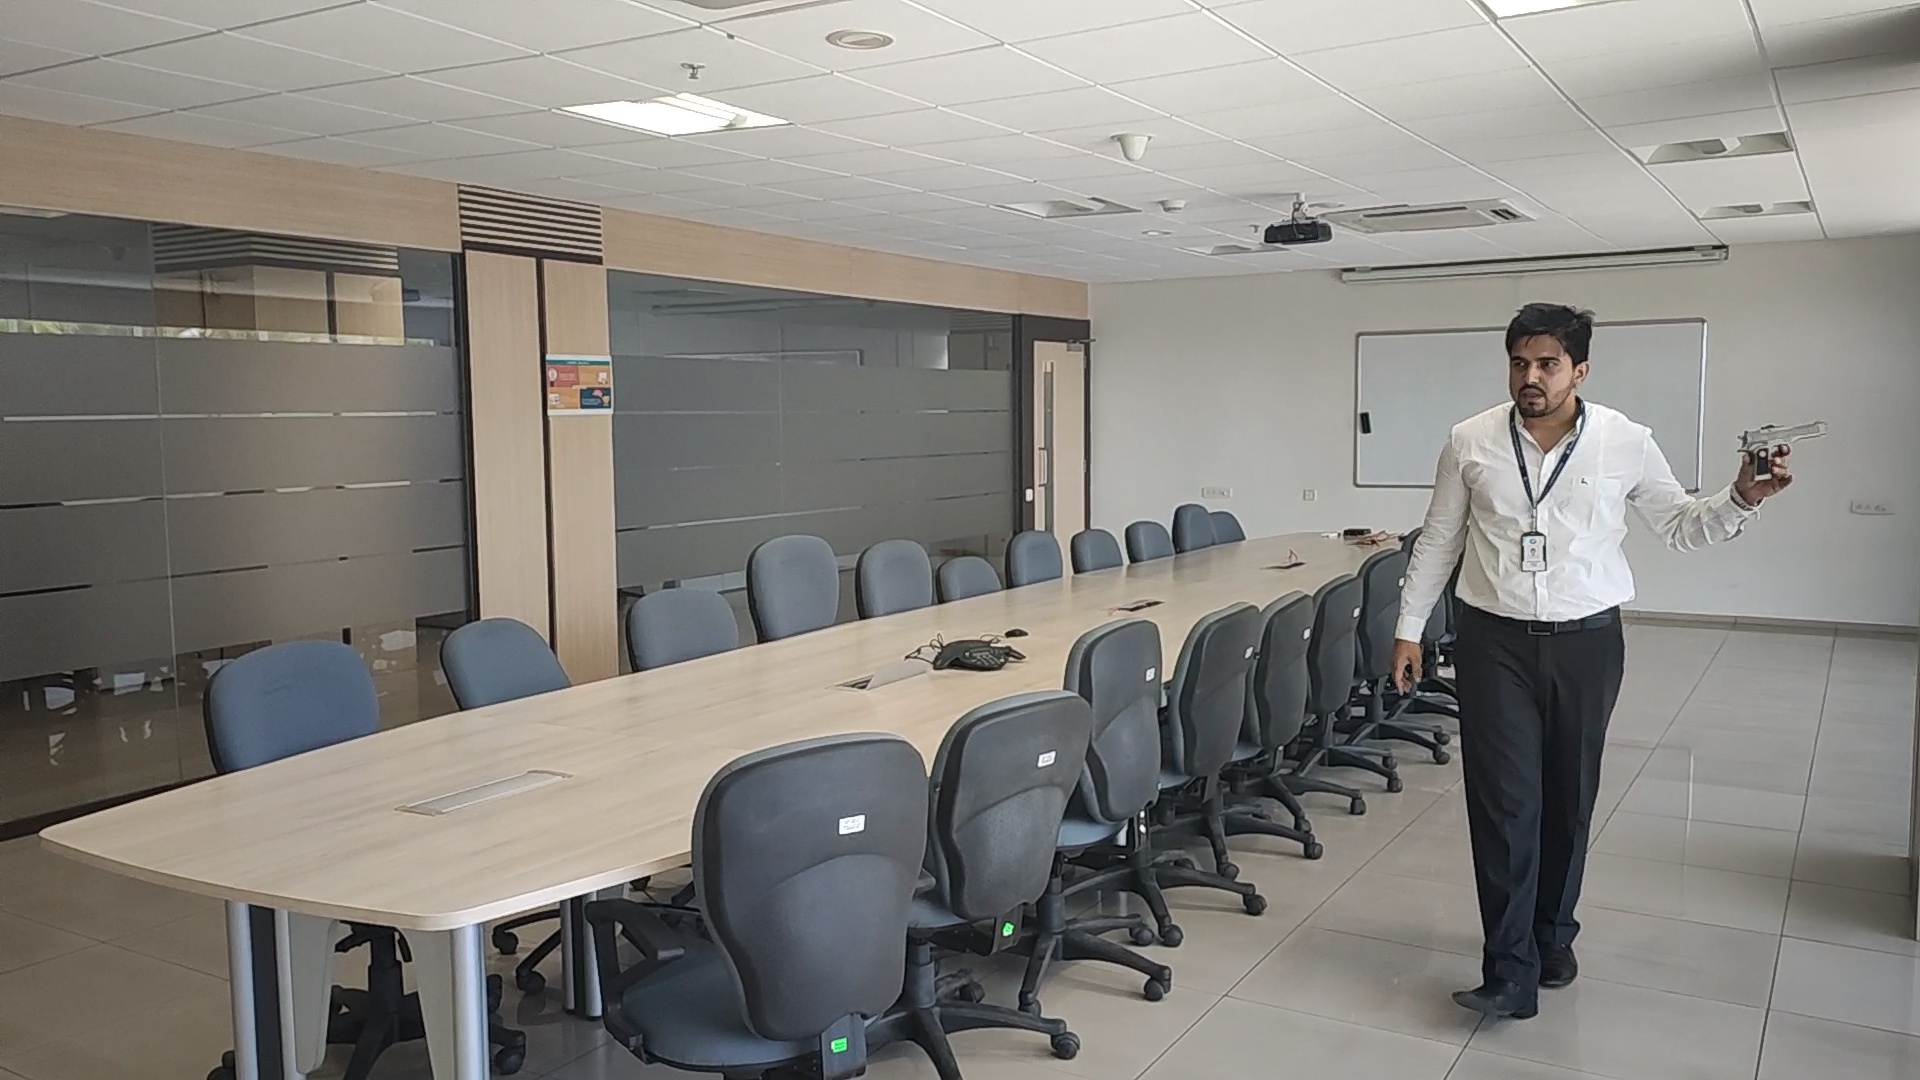gun: (1735, 419, 1830, 454)
